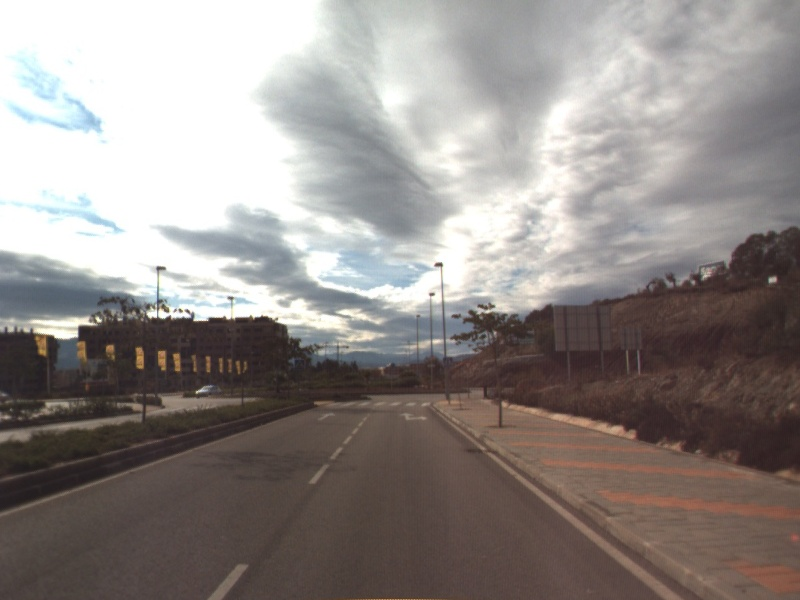STRAIGHT: (315, 410, 338, 422)
STRAIGHT_RIGHT: (398, 410, 430, 423)
